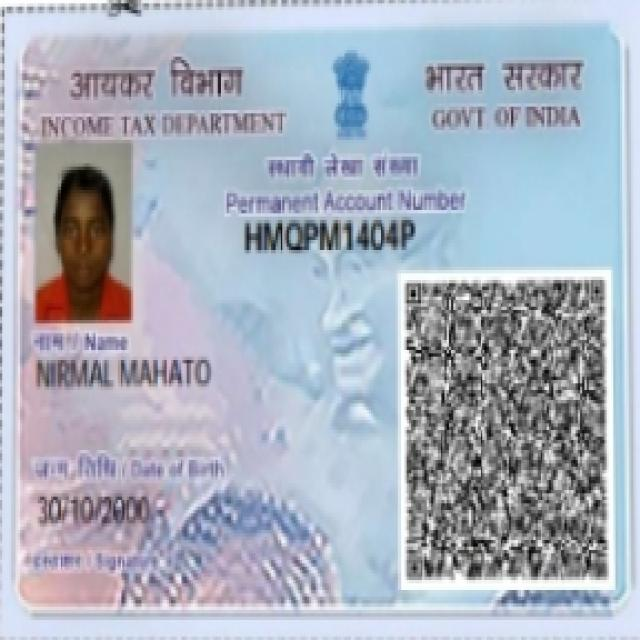pan_card: (14, 31, 626, 612)
